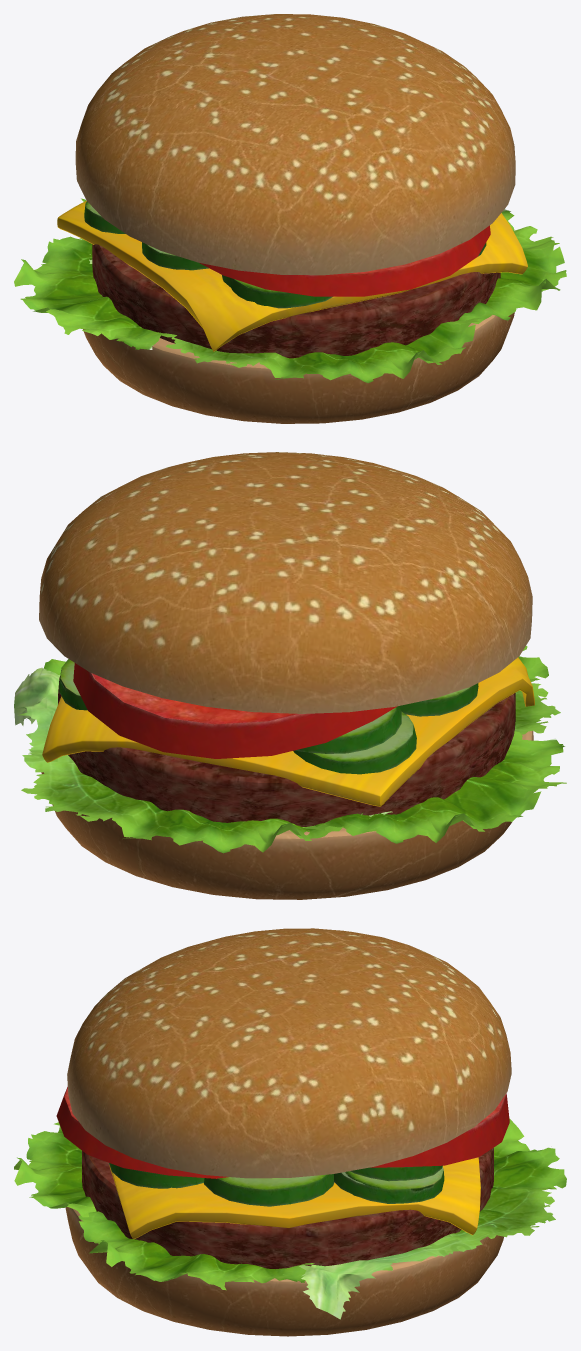
Rendered from burger.glb.
The picture shows the model from 3 angles, top to bottom: view 1: azimuth 30°, elevation 25°; view 2: azimuth 150°, elevation 25°; view 3: azimuth 270°, elevation 25°; orthographic projection. The views are drawn at different scales.
Parts seen in each view (by area): view 1: bun_top, bun_bottom, lettuce, patty, cheese, tomatoes, pickles; view 2: bun_top, lettuce, bun_bottom, patty, tomatoes, cheese, pickles; view 3: bun_top, lettuce, bun_bottom, patty, cheese, pickles, tomatoes.
Boxes of the visible parts, x1,y1,x2,y2 form: bun_top: [75, 14, 515, 275]; bun_bottom: [83, 312, 514, 423]; lettuce: [14, 198, 566, 383]; patty: [92, 244, 500, 358]; cheese: [57, 201, 527, 351]; tomatoes: [200, 225, 490, 296]; pickles: [84, 201, 486, 308]; bun_top: [39, 452, 532, 713]; lettuce: [14, 645, 566, 853]; bun_bottom: [41, 731, 533, 899]; patty: [58, 676, 515, 826]; tomatoes: [73, 663, 397, 758]; cheese: [42, 657, 534, 806]; pickles: [59, 659, 478, 774]; bun_top: [67, 928, 511, 1178]; lettuce: [14, 1118, 566, 1319]; bun_bottom: [65, 1207, 503, 1336]; patty: [82, 1148, 493, 1268]; cheese: [109, 1157, 480, 1239]; pickles: [109, 1163, 444, 1206]; tomatoes: [56, 1086, 509, 1178].
Size of the model in its own units: 3.16 by 1.84 by 3.2.
Materials: 3 (3 with a texture image).
